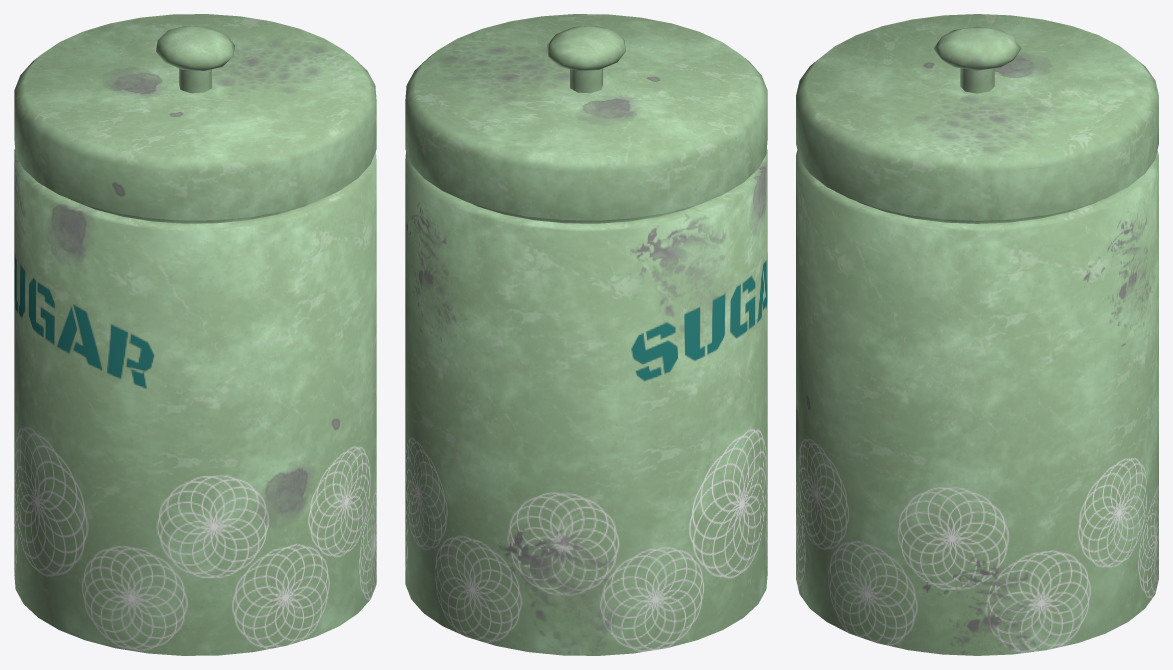
Rendered from potin.fbx.
3 views of the same model, side by side, from view 1: azimuth 30°, elevation 25°; view 2: azimuth 150°, elevation 25°; view 3: azimuth 270°, elevation 25° (orthographic).
Parts seen in each view (by area): view 1: pote; view 2: pote; view 3: pote.
Part boxes in pixels (x1,y1,x2,y2): pote: (14,14,376,655); pote: (405,14,767,655); pote: (796,14,1158,655).
Bounding box in the file's own units: 200 × 332 × 200.
Materials: 1 (1 with a texture image).
